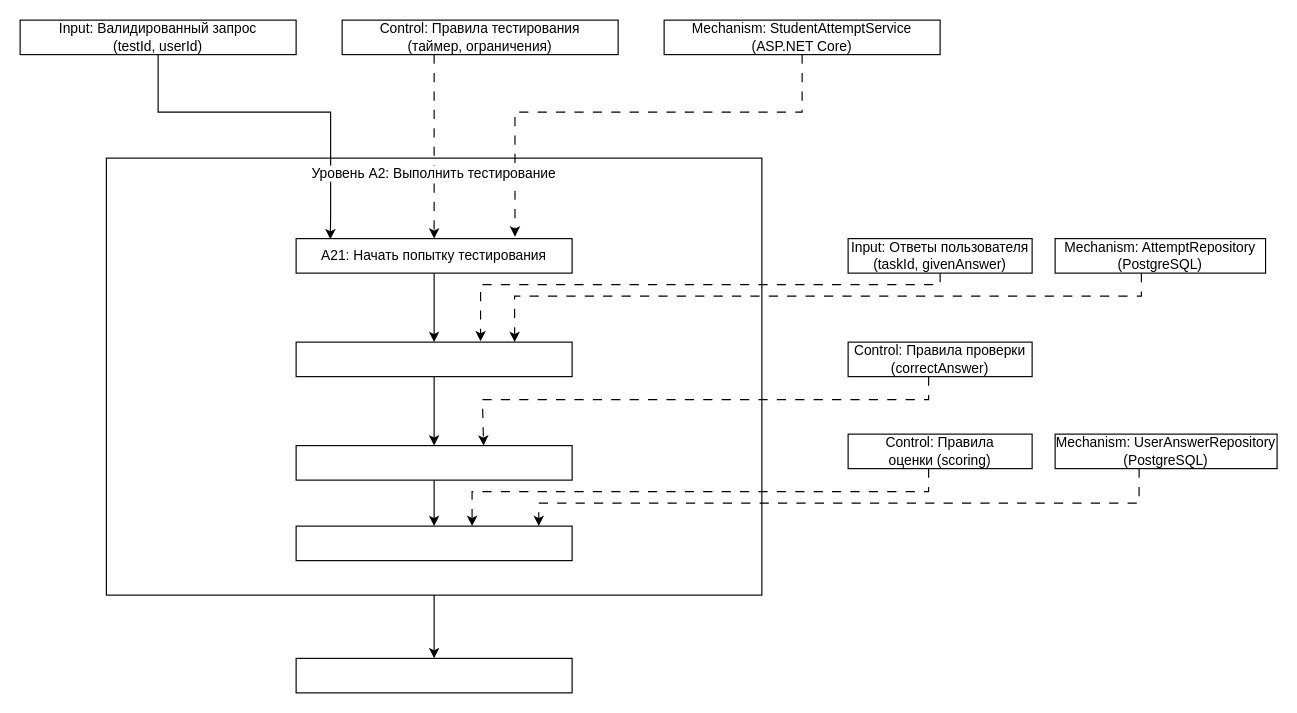
The diagram is 1297 pixels wide and 713 high, and some of its shapes have lost their labels. The centre of each missing label's shape, as x and y in pixels:
"A22: Обработать ответы пользователя" belongs at pixel 433 359.
"A23: Проверить правильность ответов" belongs at pixel 433 462.
"A24: Завершить попытку и сохранить результаты" belongs at pixel 433 543.
"Результаты попытки (rawScore, scaledScore, answers)" belongs at pixel 433 675.
